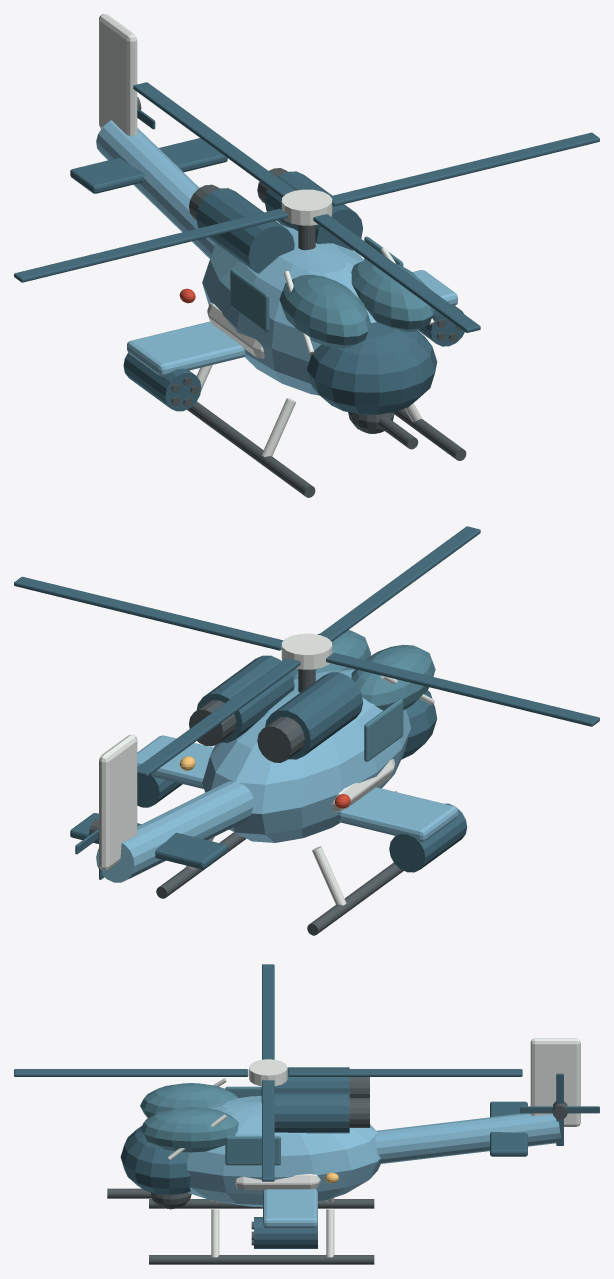
File: helicopter_runtime.glb
3 views of the same model, one above another, from view 1: azimuth 30°, elevation 25°; view 2: azimuth 150°, elevation 25°; view 3: azimuth 270°, elevation 25° (orthographic). The views are drawn at different scales.
Parts seen in each view (by area): view 1: Helicopter_Azul oscuro, Helicopter_Celeste, MainRotor_Azul oscuro, Helicopter_Cabina, Helicopter_Marfil, Helicopter_Mecánica, Rotor hub, CannonJoint_Mecánica; view 2: Helicopter_Celeste, Helicopter_Azul oscuro, MainRotor_Azul oscuro, Helicopter_Marfil, Helicopter_Cabina, Helicopter_Mecánica, Rotor hub; view 3: Helicopter_Celeste, Helicopter_Azul oscuro, Helicopter_Cabina, MainRotor_Azul oscuro, Helicopter_Marfil, Helicopter_Mecánica, CannonJoint_Mecánica, TailRotor_Azul oscuro, Rotor hub.
Boxes of the visible parts, x1,y1,x2,y2 form: Helicopter_Azul oscuro: (70, 138, 464, 414); Helicopter_Celeste: (96, 120, 457, 395); MainRotor_Azul oscuro: (14, 82, 599, 332); Helicopter_Cabina: (230, 236, 434, 348); Helicopter_Marfil: (99, 14, 434, 457); Helicopter_Mecánica: (171, 168, 466, 497); Rotor hub: (281, 189, 332, 225); CannonJoint_Mecánica: (348, 412, 418, 449); Helicopter_Celeste: (96, 669, 457, 882); Helicopter_Azul oscuro: (70, 655, 467, 872); MainRotor_Azul oscuro: (14, 526, 599, 776); Helicopter_Marfil: (99, 675, 434, 905); Helicopter_Cabina: (291, 630, 435, 761); Helicopter_Mecánica: (156, 700, 403, 935); Rotor hub: (281, 633, 332, 669); Helicopter_Celeste: (182, 1096, 561, 1227); Helicopter_Azul oscuro: (120, 1067, 527, 1248); Helicopter_Cabina: (140, 1083, 280, 1165); MainRotor_Azul oscuro: (14, 964, 522, 1181); Helicopter_Marfil: (168, 1038, 580, 1257); Helicopter_Mecánica: (149, 1077, 374, 1264); CannonJoint_Mecánica: (107, 1188, 191, 1209); TailRotor_Azul oscuro: (520, 1073, 599, 1145); Rotor hub: (249, 1059, 287, 1086).
Bounding box in the file's own units: 5.75 × 2.47 × 6.62.
